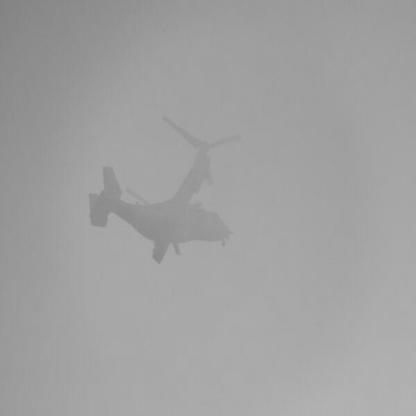V22: (88, 116, 243, 266)
